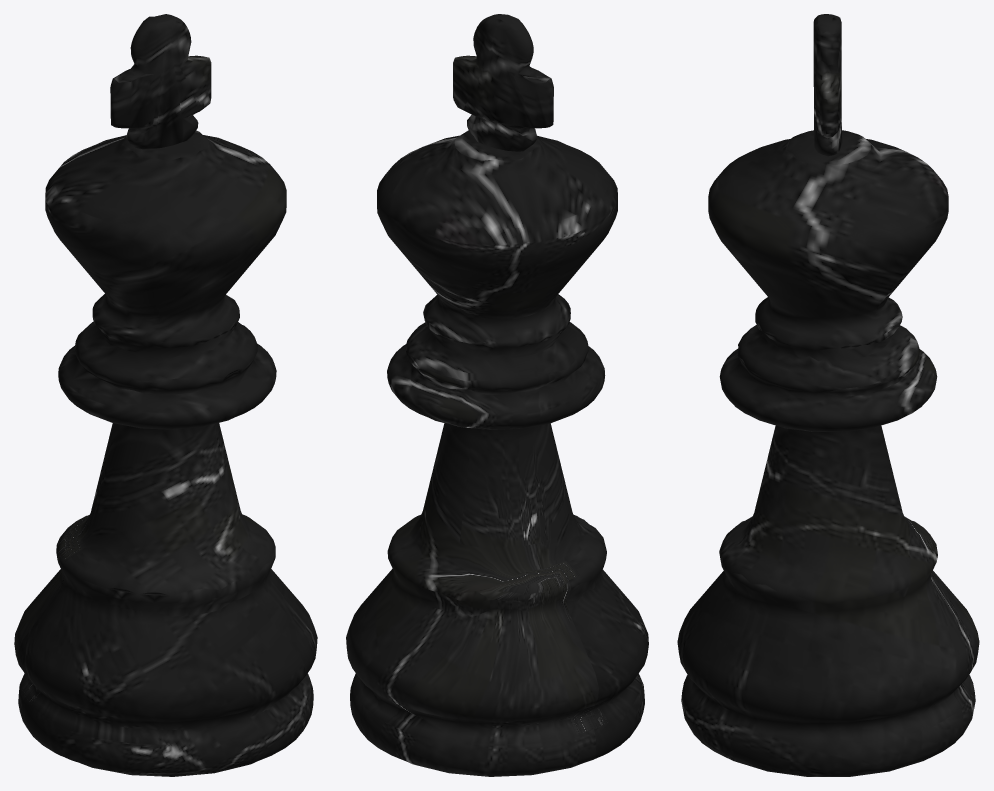
Rendered from black_king.glb.
The picture shows the model from 3 angles, left to right: view 1: azimuth 30°, elevation 25°; view 2: azimuth 150°, elevation 25°; view 3: azimuth 270°, elevation 25°; orthographic projection.
Visible parts, largest first — view 1: Circle; view 2: Circle; view 3: Circle.
Part boxes in pixels (left/top/right/bottom): Circle: left=14, top=14, right=317, bottom=776; Circle: left=346, top=14, right=648, bottom=776; Circle: left=677, top=14, right=979, bottom=776.
Bounding box in the file's own units: 1.47 × 3.77 × 1.47.
1 material, 1 textured.
